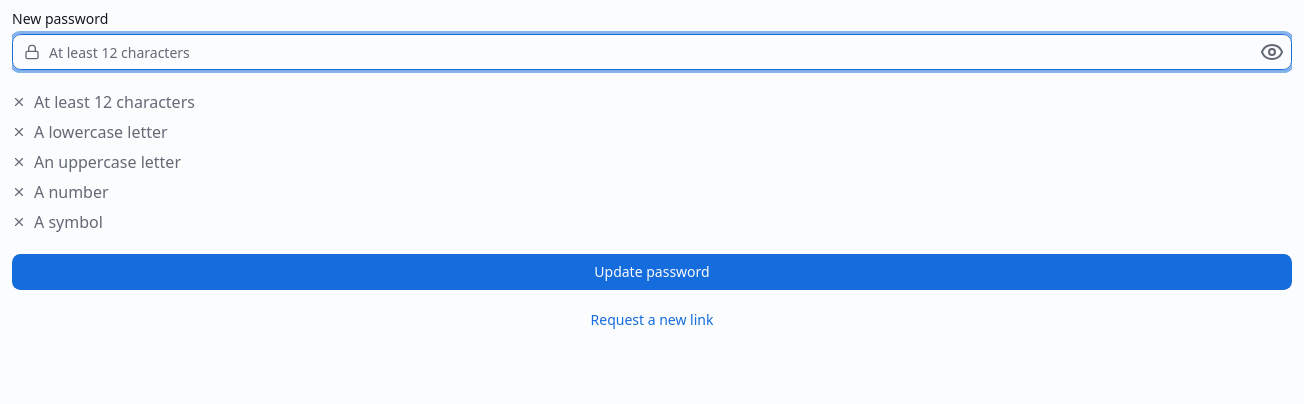
Test: ResetPasswordForm › maps 401 INVALID_TOKEN through the shared error catalog
This screenshot has width=1304, height=404.
Step 1. Type "DemoPass123!" into the password field labelled "New password" → (652, 52), box [12,34,1292,70]
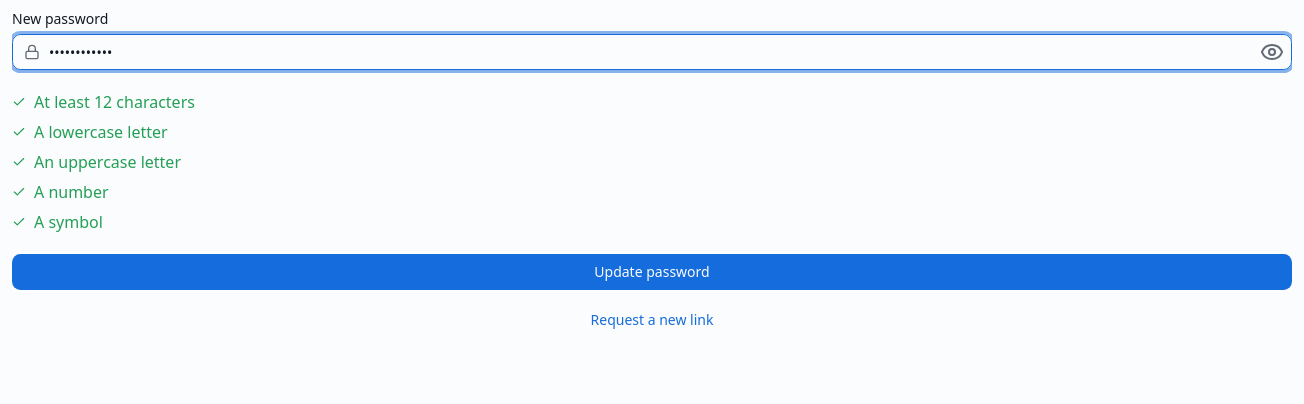
Step 2. Click the button "Update password" → (652, 272), box [12,254,1292,290]
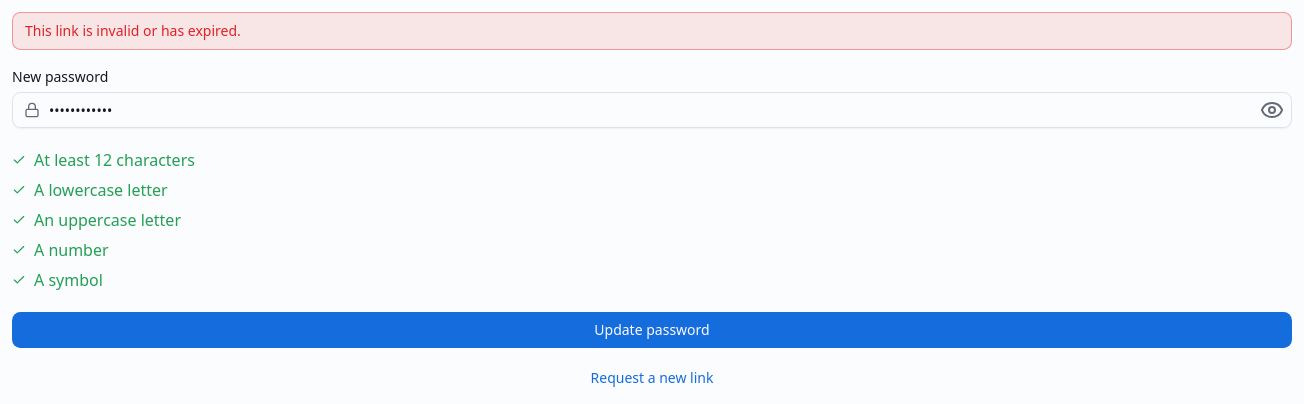
Now the message reads "This link is invalid or has expired.", box [25,21,241,40]
